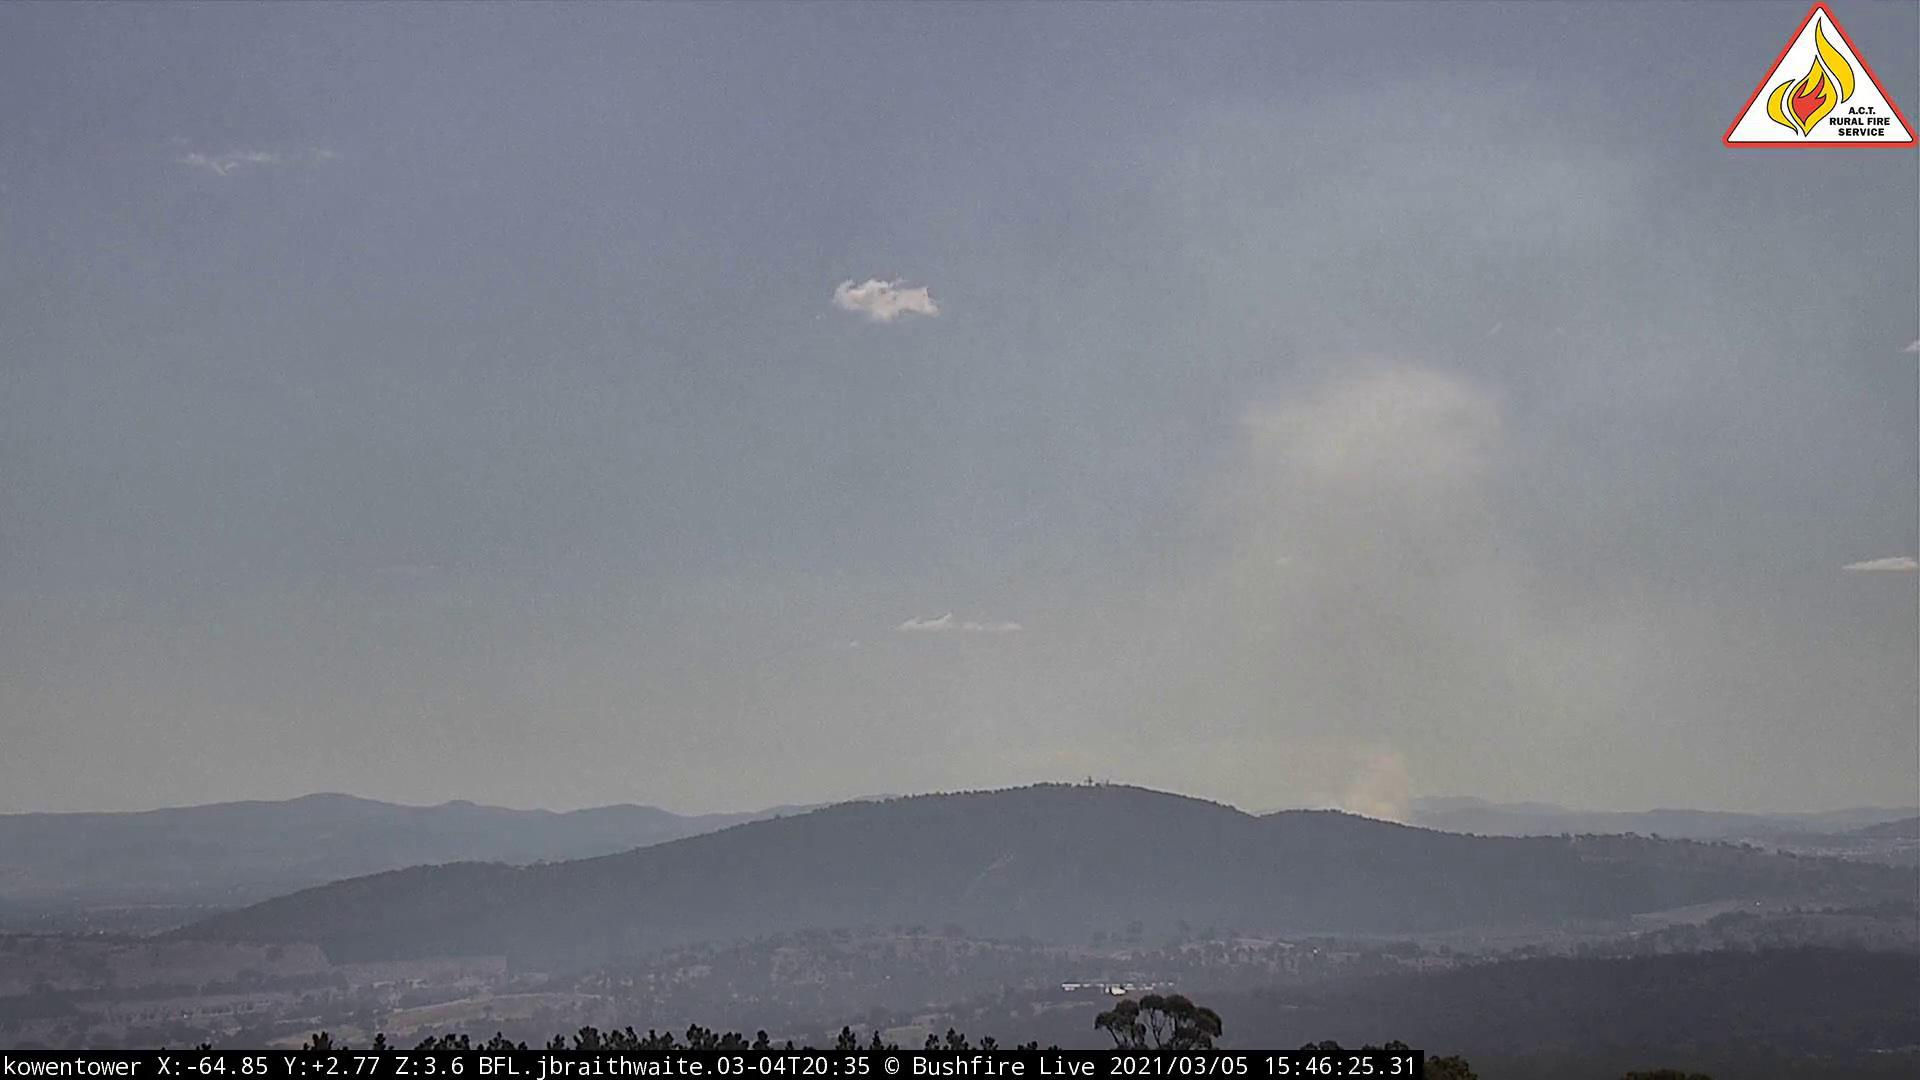Smoke: (1096, 316, 1594, 843)
